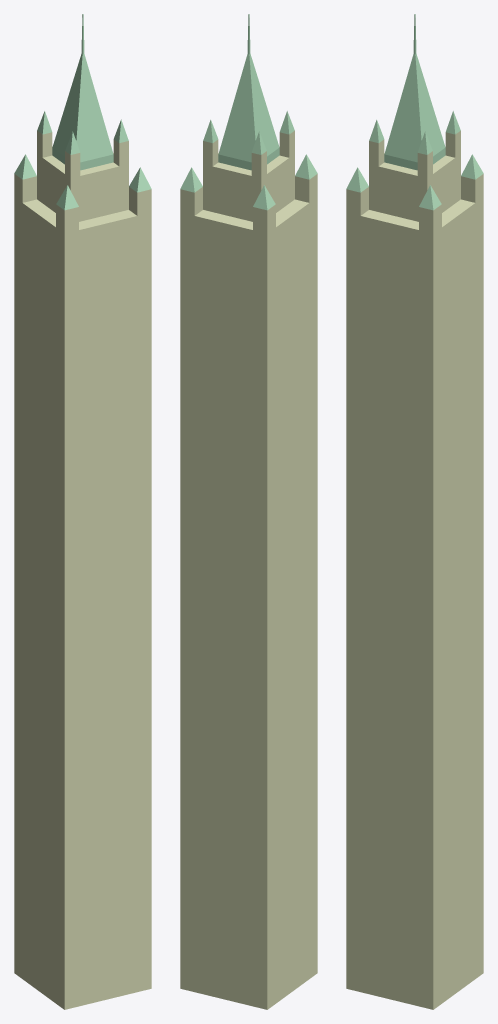
The model's file is Scyskraper_02.fbx.
3 renders of one model, left to right at view 1: azimuth 30°, elevation 25°; view 2: azimuth 150°, elevation 25°; view 3: azimuth 330°, elevation 25°, orthographic.
Visible parts, largest first — view 1: Cube.001; view 2: Cube.001; view 3: Cube.001.
Part boxes in pixels (x1,y1,x2,y2): Cube.001: [14, 14, 151, 1009]; Cube.001: [180, 14, 317, 1009]; Cube.001: [346, 14, 483, 1009].
Bounding box in the file's own units: 4 × 4 × 42.34.
